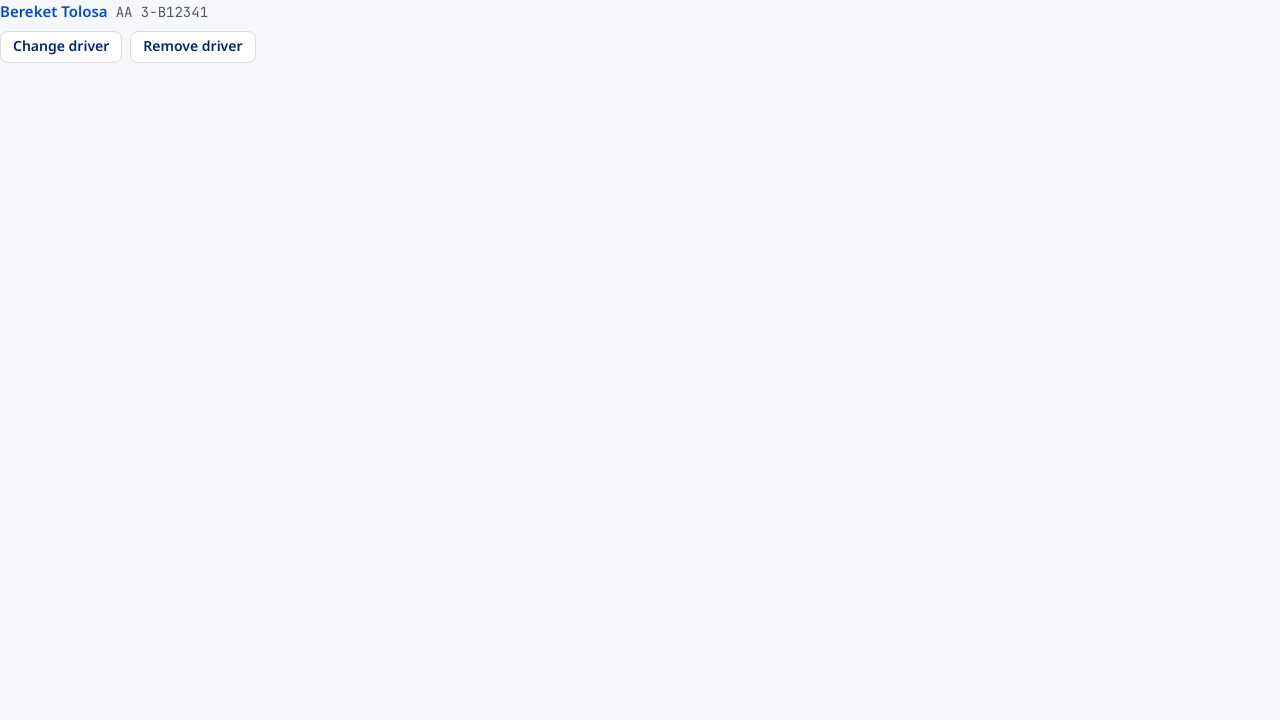
Test: RouteDriver › explains a driver whose times clash with another of their routes, on the picker
This screenshot has width=1280, height=720.
Step 1. Click the button "Change driver" → {"x": 61, "y": 46}, box top-left (0, 30), bottom-right (122, 62)
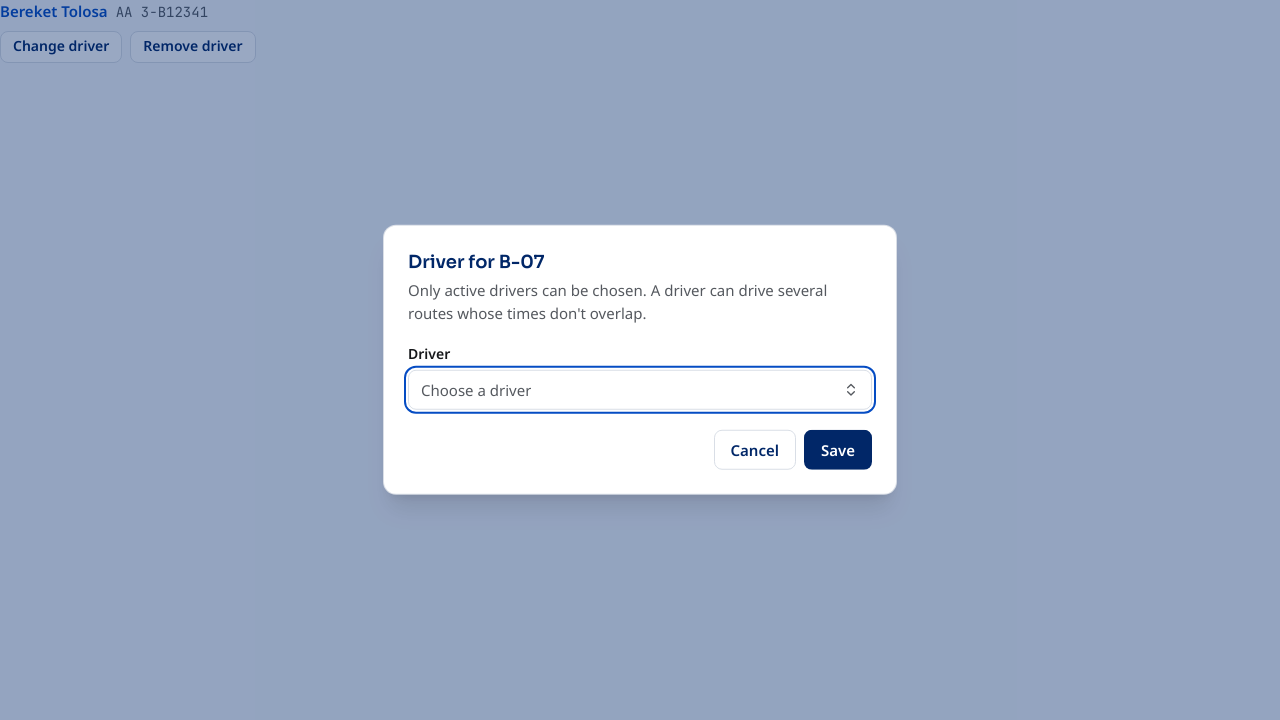
Step 2. Click the dropdown labelled "driver" → {"x": 476, "y": 390}, box top-left (408, 370), bottom-right (872, 410)
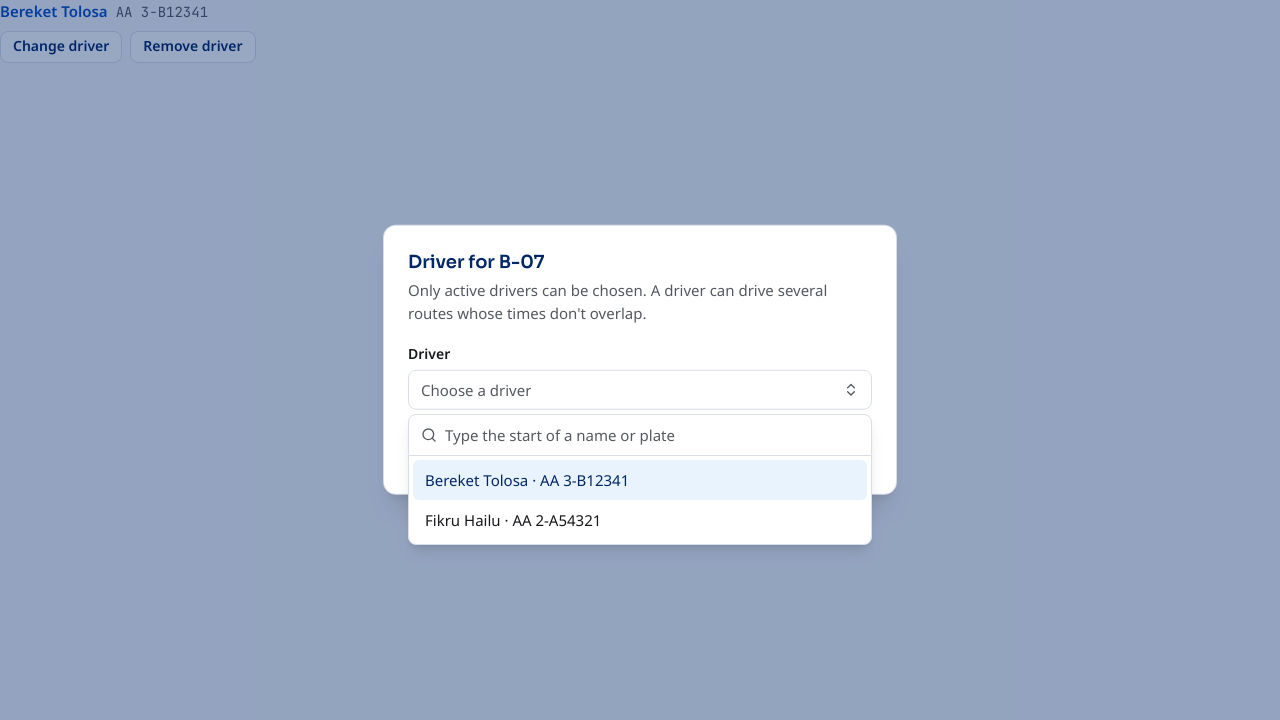
Step 3. Type "Fik" into the dropdown named "Search drivers" → {"x": 652, "y": 435}, box top-left (445, 415), bottom-right (859, 455)
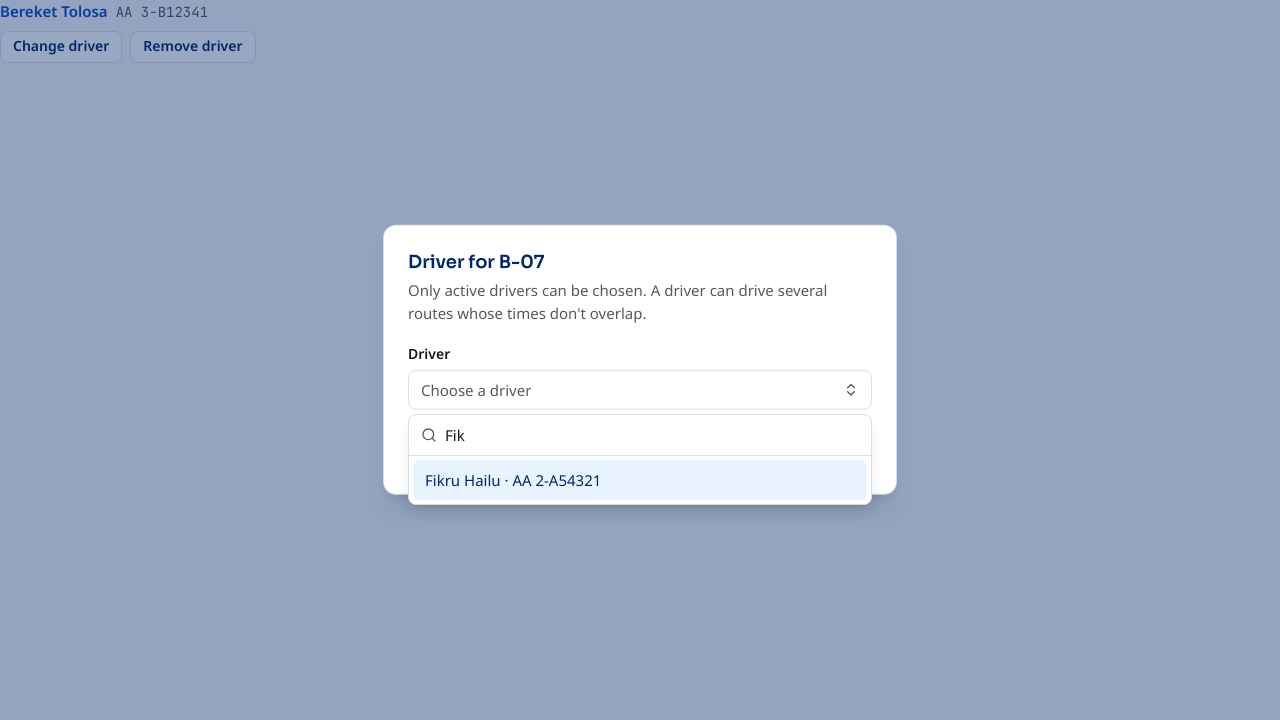
Step 4. Click the option "Fikru Hailu · AA 2-A54321" → {"x": 513, "y": 480}, box top-left (413, 460), bottom-right (867, 500)
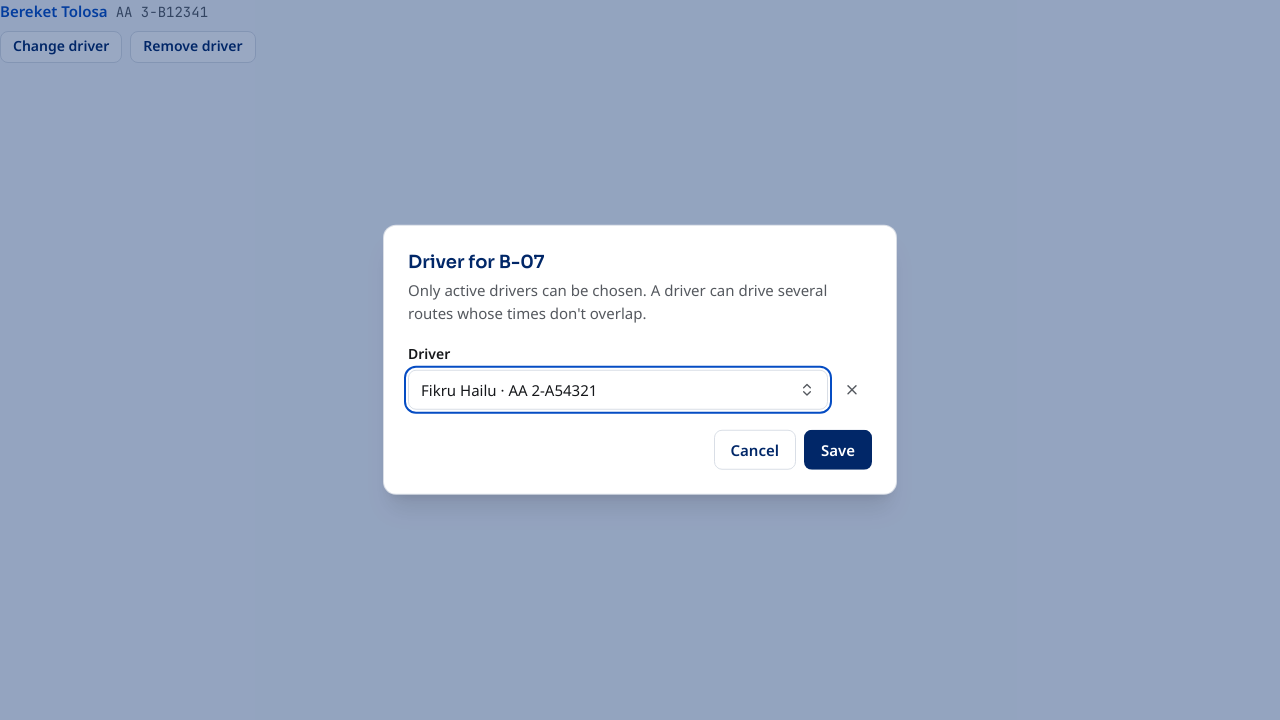
Step 5. Click the button "Save" → {"x": 838, "y": 450}, box top-left (804, 430), bottom-right (872, 470)
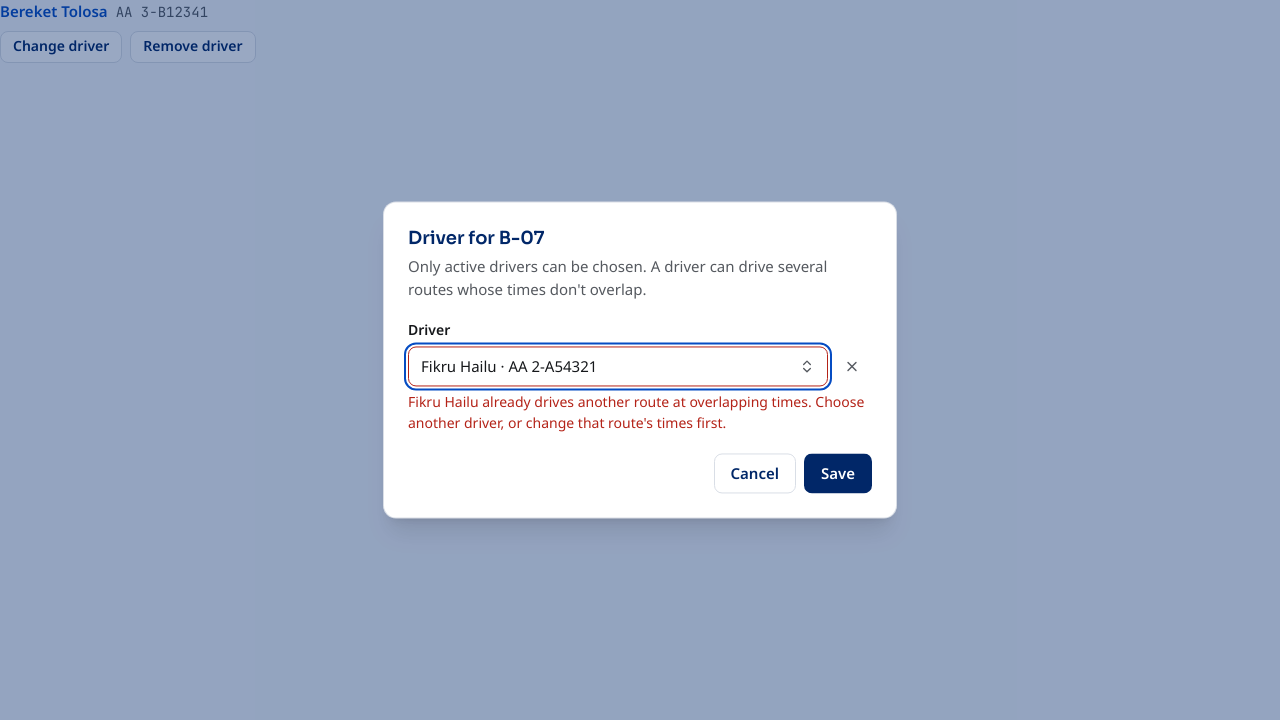
Expected: the dropdown named "Driver" is marked as invalid, top-left (408, 347), bottom-right (828, 387)
